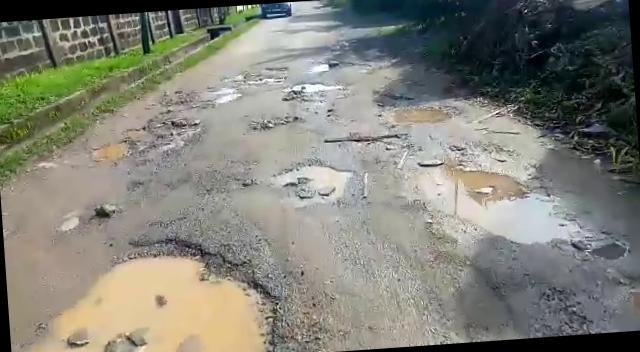pothole: (40, 227, 293, 352), (404, 152, 578, 257), (96, 114, 208, 161), (274, 154, 354, 202), (382, 97, 462, 127), (328, 129, 412, 151), (251, 113, 305, 132), (281, 82, 329, 101), (215, 90, 245, 105)
